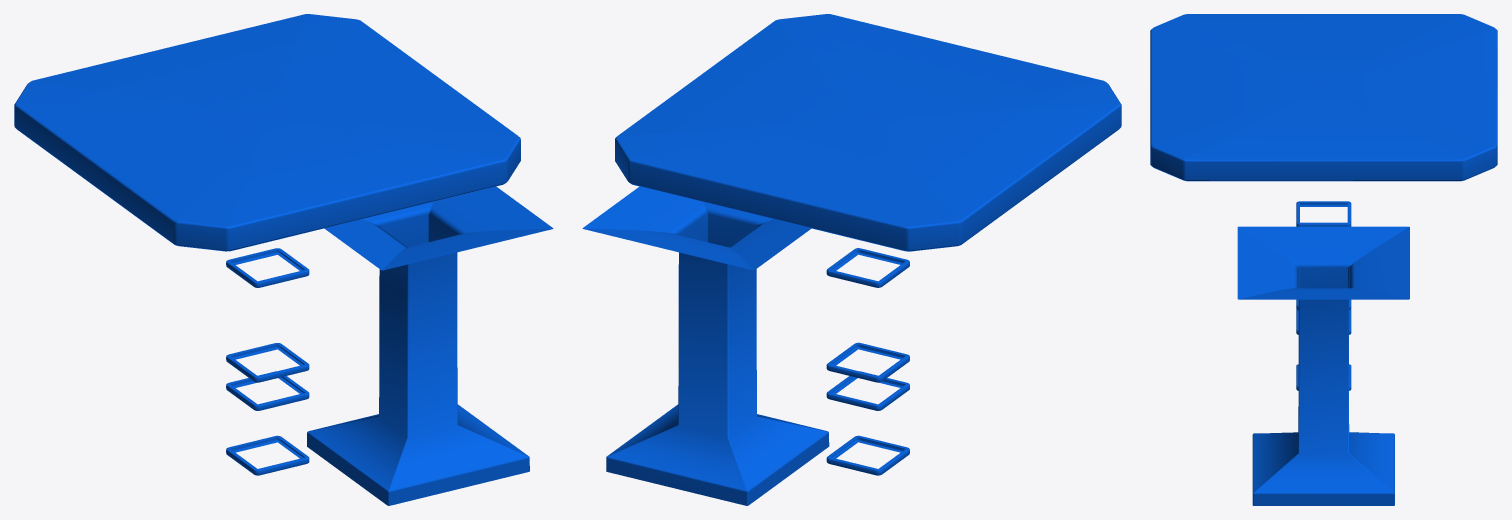
The model's file is Tisch_LP.fbx.
The picture shows the model from 3 angles, left to right: view 1: azimuth 30°, elevation 25°; view 2: azimuth 150°, elevation 25°; view 3: azimuth 270°, elevation 25°; orthographic projection. The views are drawn at different scales.
Parts seen in each view (by area): view 1: table_top, Table_Leg, deco8, deco9, deco10, deco11; view 2: table_top, Table_Leg, deco8, deco9, deco10, deco11; view 3: table_top, Table_Leg, deco10.
Boxes of the visible parts, left/top/right/bottom form: table_top: left=14, top=14, right=520, bottom=251; Table_Leg: left=307, top=186, right=553, bottom=505; deco8: left=226, top=435, right=309, bottom=475; deco9: left=226, top=343, right=309, bottom=382; deco10: left=226, top=248, right=309, bottom=287; deco11: left=226, top=371, right=309, bottom=410; table_top: left=615, top=14, right=1121, bottom=251; Table_Leg: left=582, top=186, right=829, bottom=505; deco8: left=826, top=435, right=909, bottom=475; deco9: left=826, top=342, right=909, bottom=382; deco10: left=826, top=248, right=909, bottom=287; deco11: left=826, top=371, right=909, bottom=410; table_top: left=1150, top=14, right=1497, bottom=181; Table_Leg: left=1237, top=226, right=1409, bottom=505; deco10: left=1296, top=201, right=1351, bottom=226.
Size of the model in its own units: 126 by 107 by 111.
